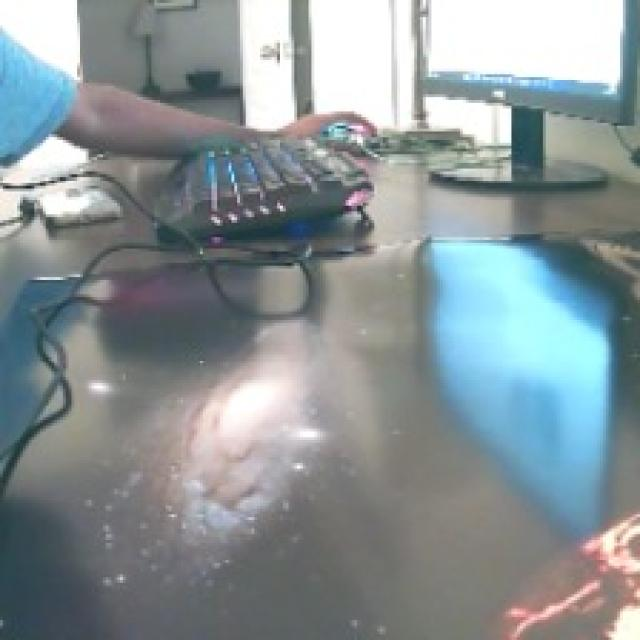Galaxy: (149, 314, 310, 574)
Sun: (488, 505, 640, 640)
